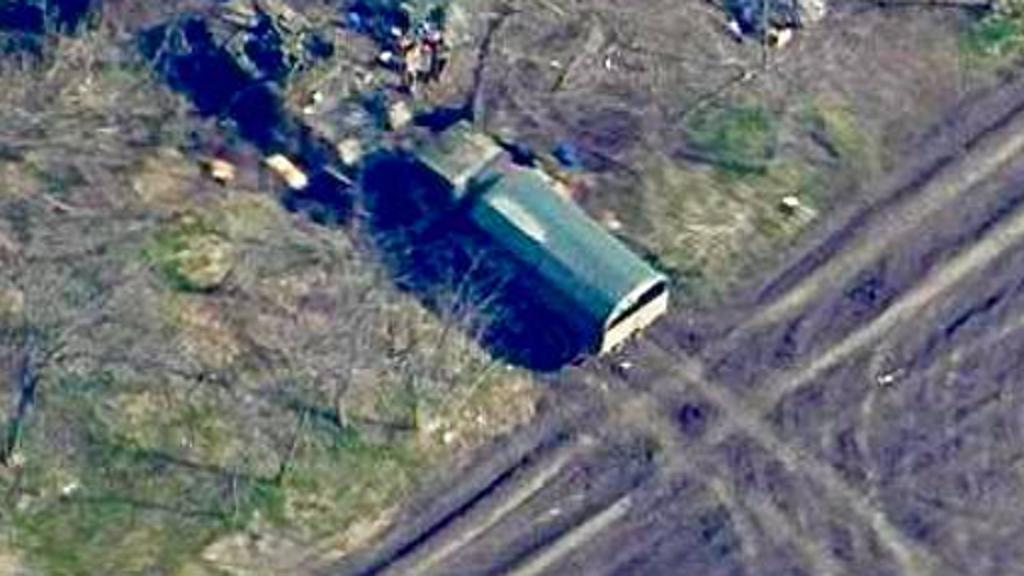TRUCK: (396, 119, 672, 356)
